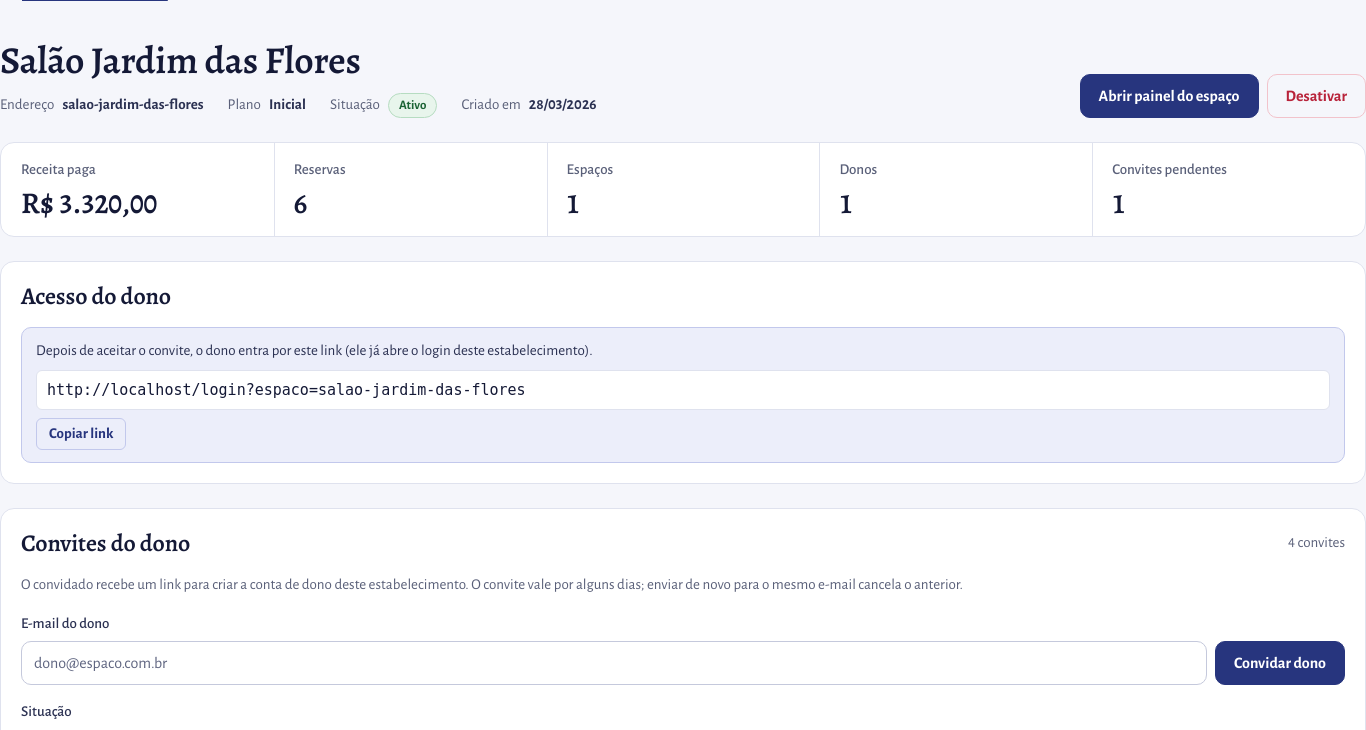
Test: Plataforma - detalhe e convites › invites an owner and shows the dev inviteUrl with copy
The width and height of the screenshot is (1366, 730).
Expected: the heading "Salão Jardim das Flores" is shown, [0, 34, 361, 86]
Click the button "Convidar dono".
click(1280, 663)  # box [1215, 641, 1345, 685]
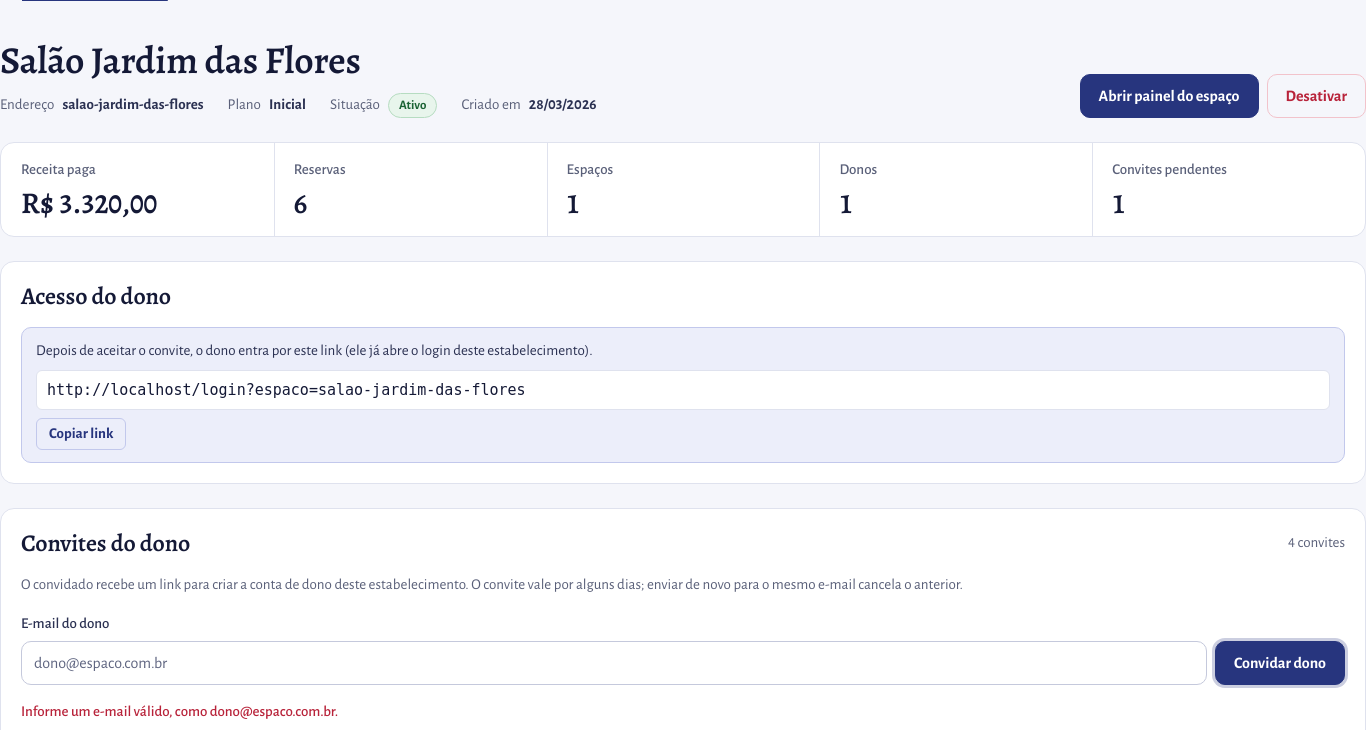
Expected: the text "Informe um e-mail válido, como dono@espaco.com.br." is shown, [21, 704, 338, 719]
Type "Nova@Jardim.com" into the field labelled "E-mail do dono".
click(614, 663); type("Nova@Jardim.com")  # box [21, 641, 1207, 685]
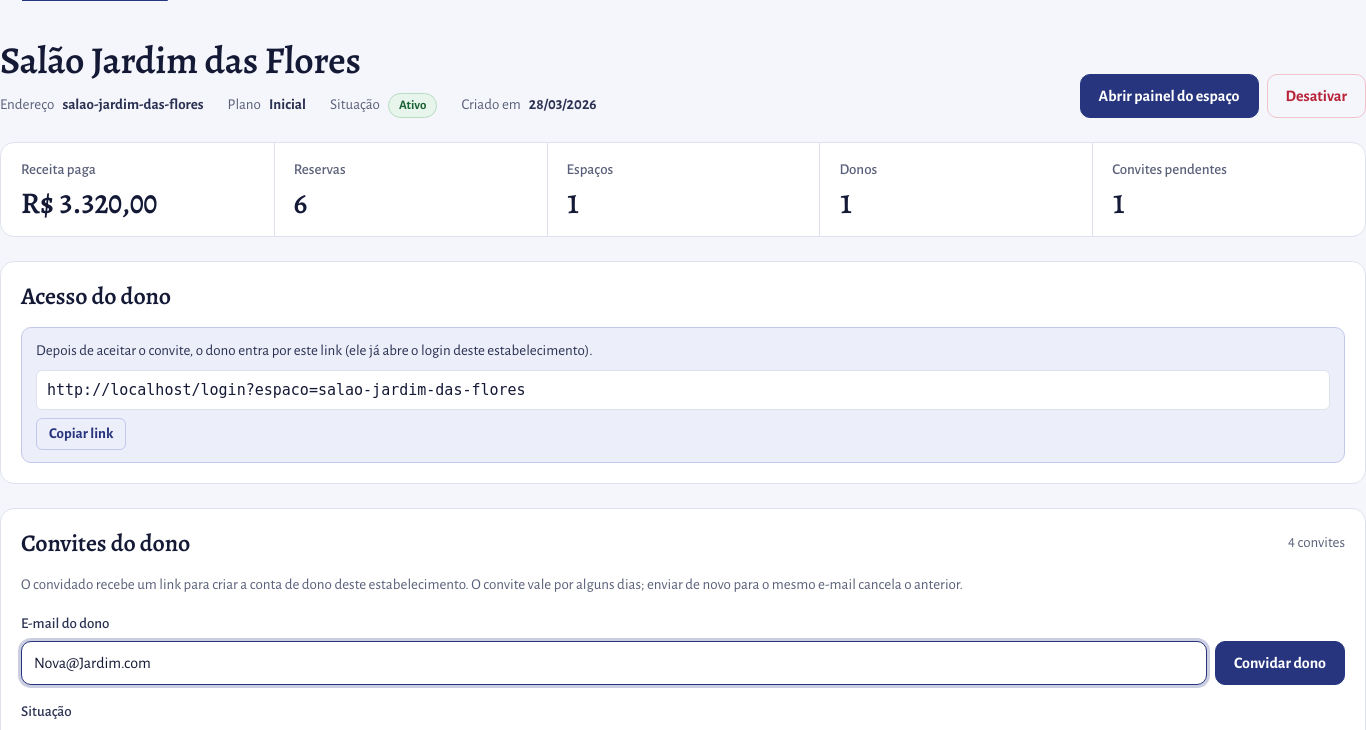
Click the button "Convidar dono".
click(1280, 663)  # box [1215, 641, 1345, 685]
(page scrolled)
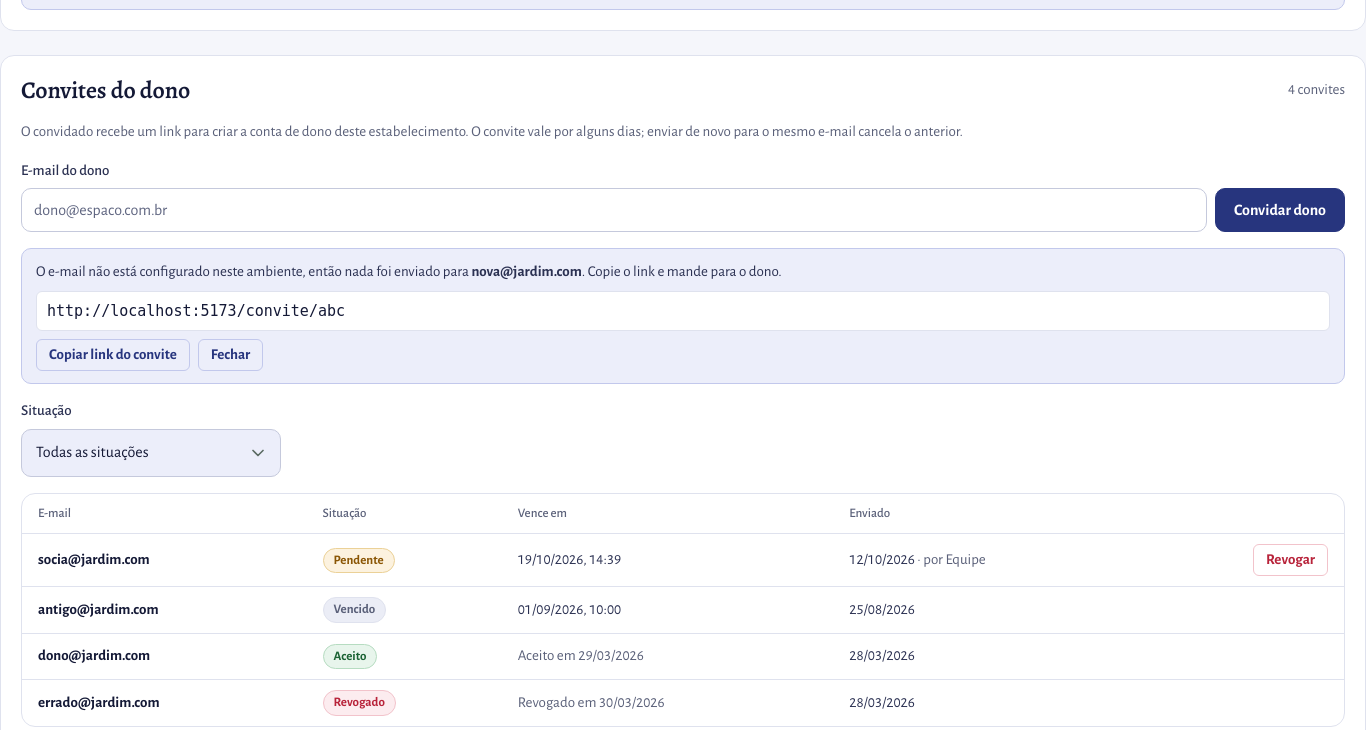
Expected: the text "http://localhost:5173/convite/abc" is shown, [36, 291, 1330, 331]
Expected: the text "O e-mail não está configurado" is shown, [36, 264, 469, 279]
Click the button "Copiar link do convite".
click(113, 355)  # box [36, 339, 190, 371]
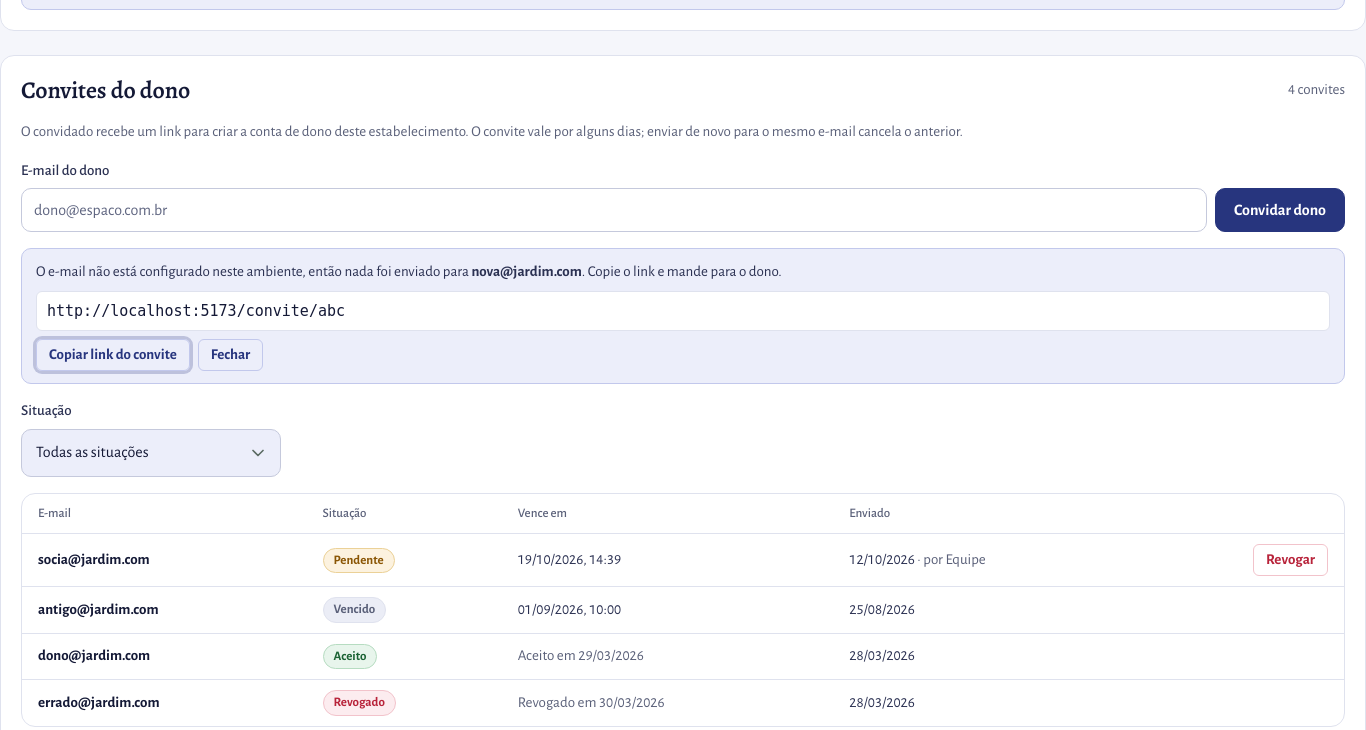
Click the button "Fechar".
click(230, 355)  # box [198, 339, 263, 371]
(page scrolled)
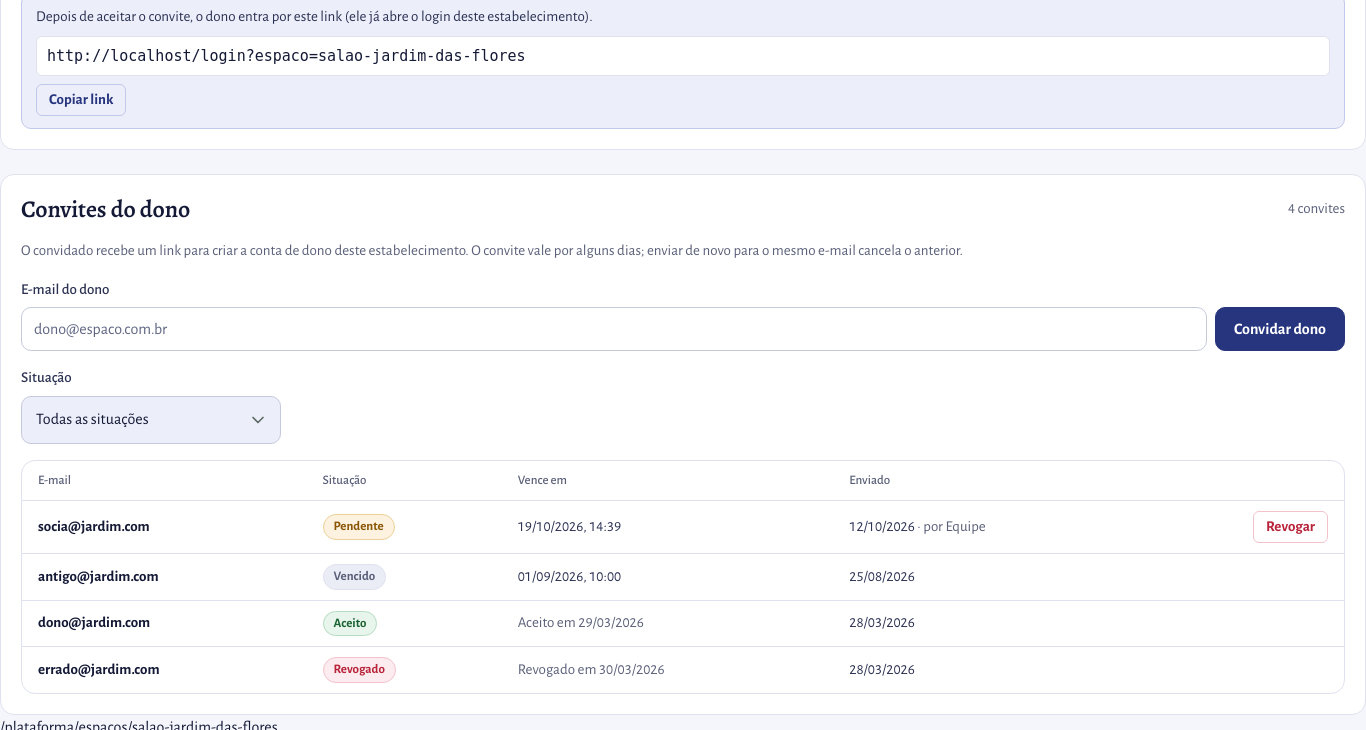
Expected: the text "http://localhost:5173/convite/abc" is gone
